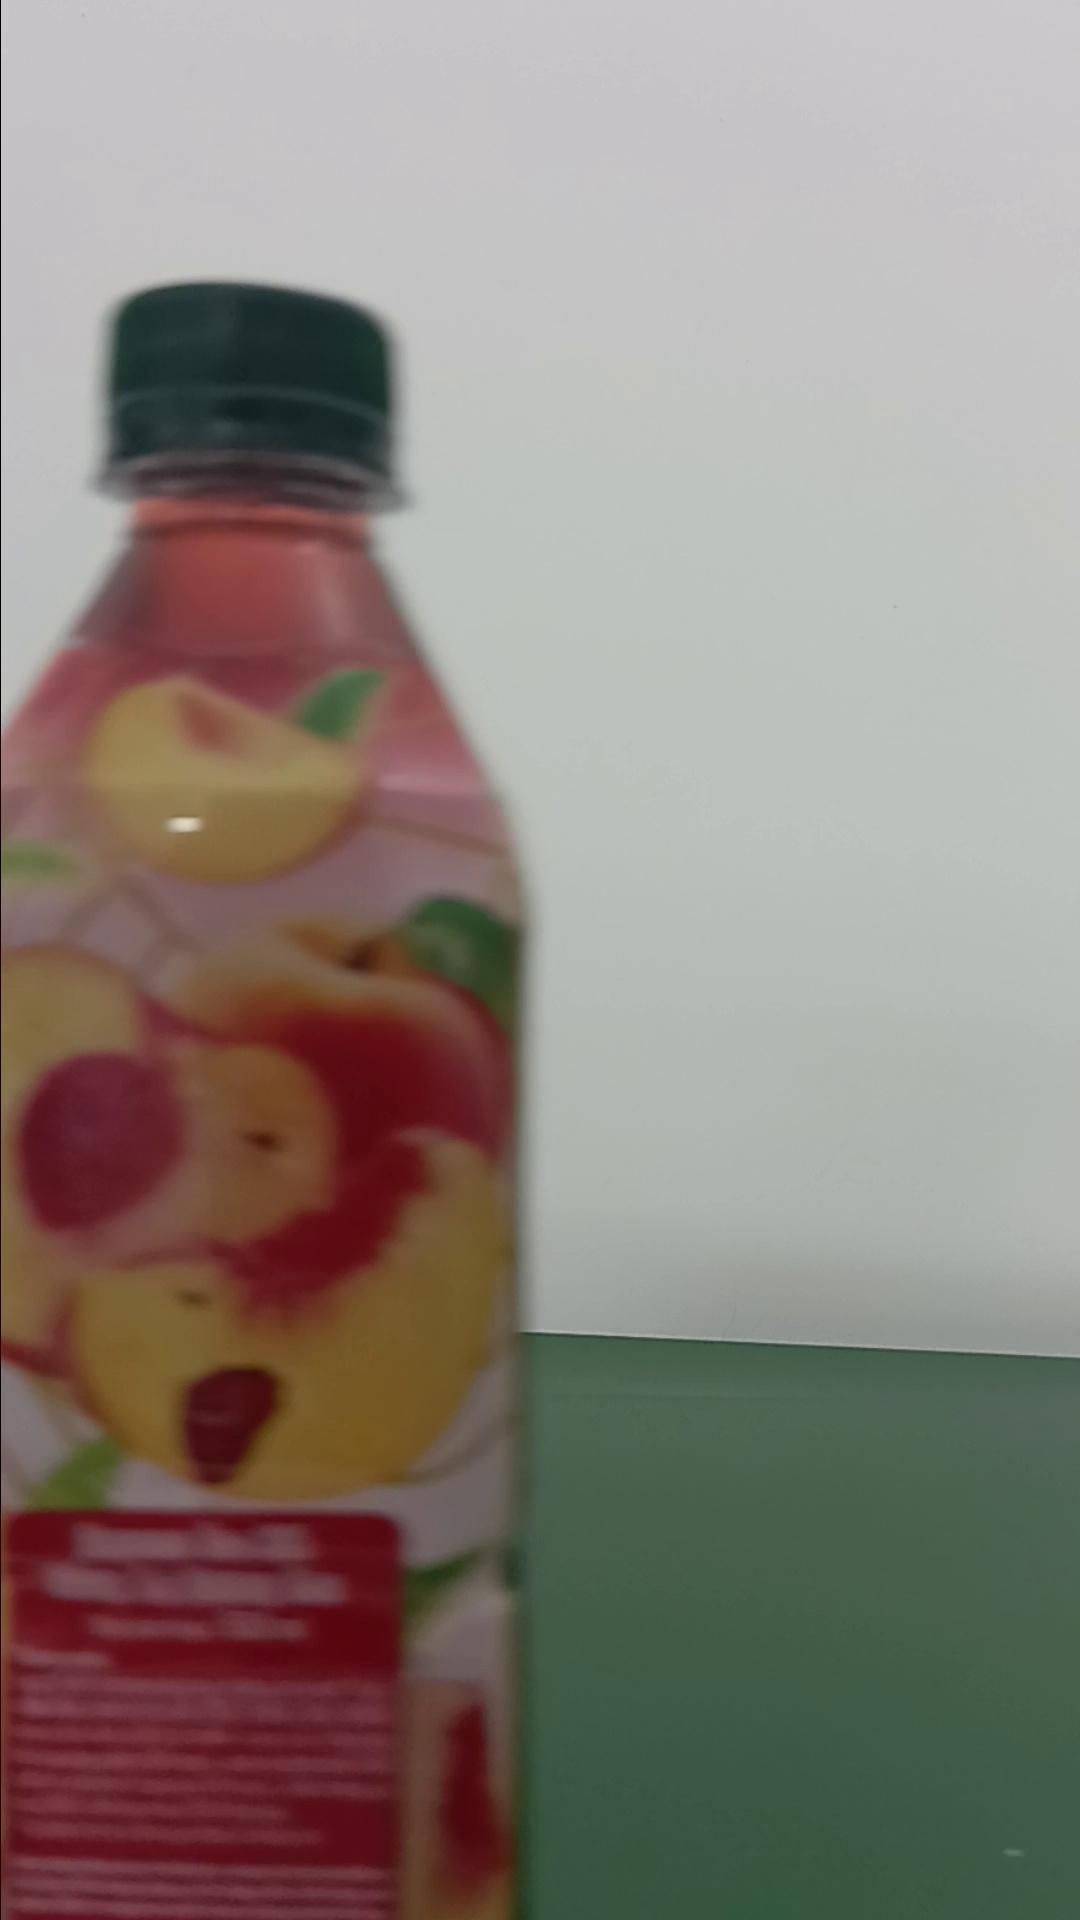loi rach va lap chai: (3, 274, 531, 1920)
